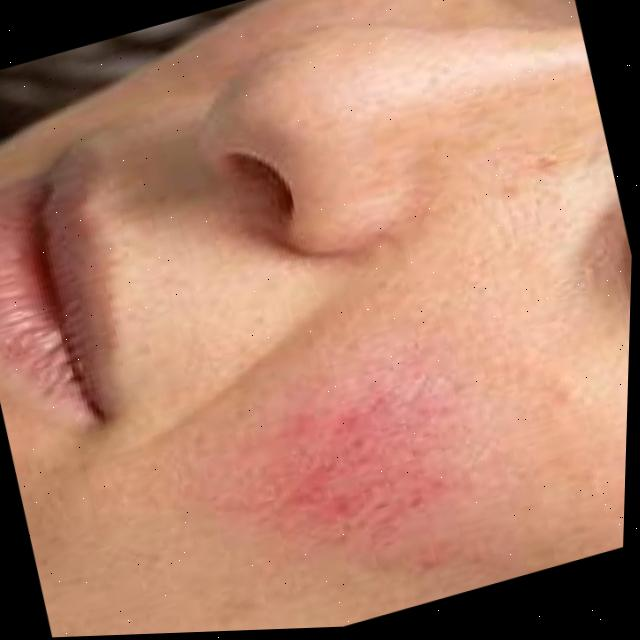Rosacea: (252, 364, 461, 539)
